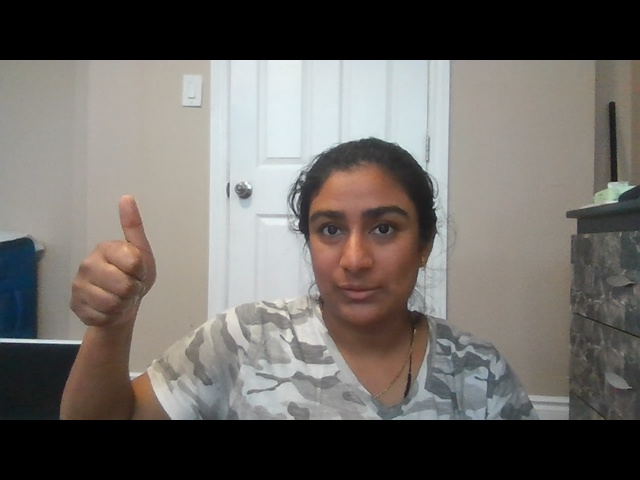yes: (66, 192, 160, 342)
